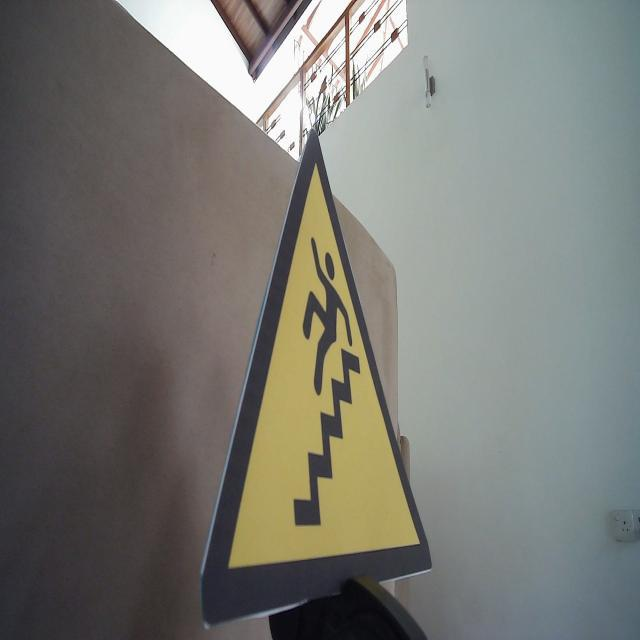stairs: (198, 126, 436, 632)
